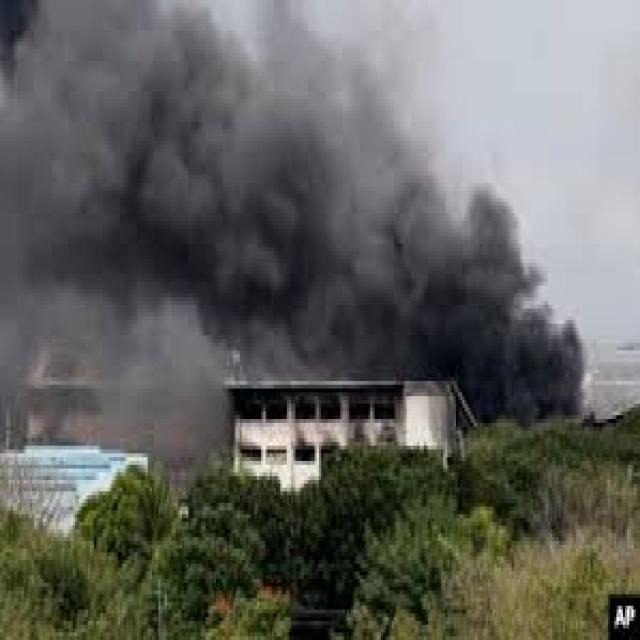Smoke: (0, 0, 585, 459)
